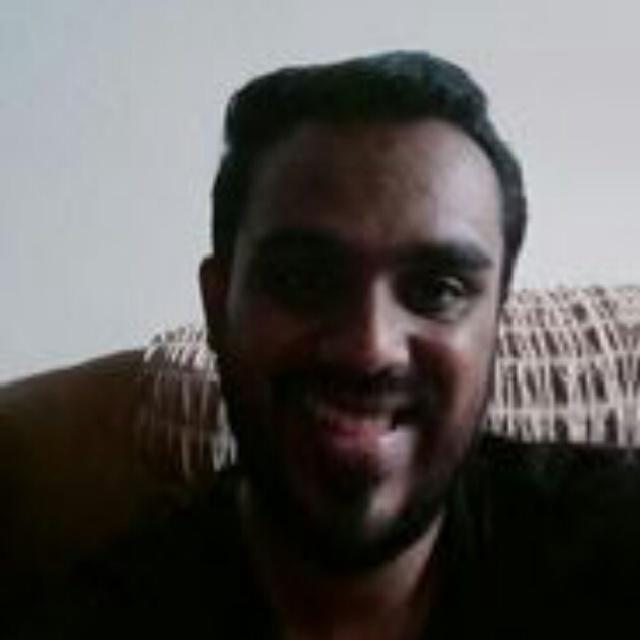Happy: (157, 25, 509, 499)
